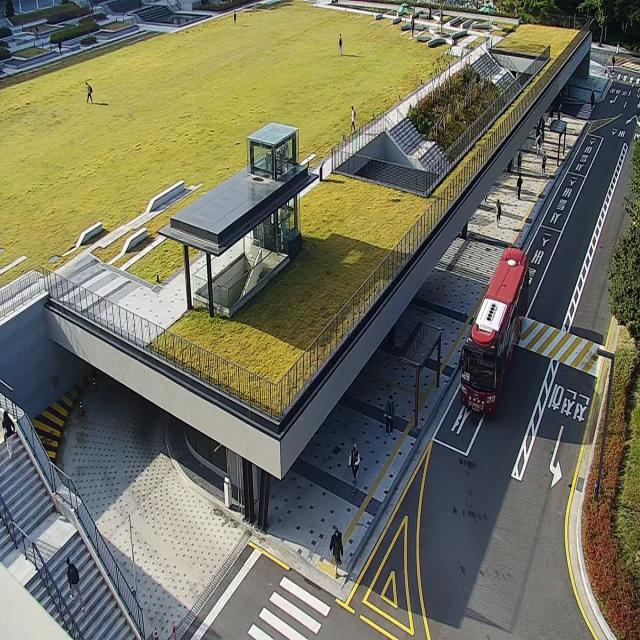queue: (412, 325, 442, 434)
